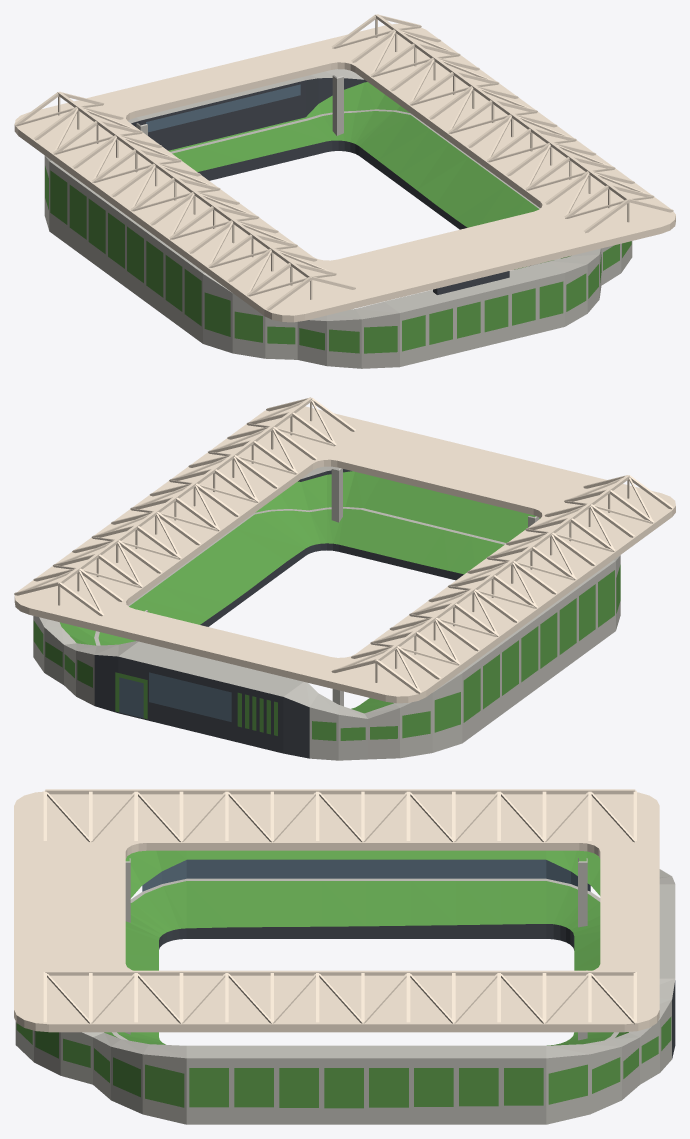
The model's file is atx-q2-stadium.glb.
3 renders of one model, top to bottom at view 1: azimuth 30°, elevation 25°; view 2: azimuth 150°, elevation 25°; view 3: azimuth 270°, elevation 25°, orthographic. The views are drawn at different scales.
Visible parts, largest first — view 1: Q2 Stadium; view 2: Q2 Stadium; view 3: Q2 Stadium.
Boxes of the visible parts, x1,y1,x2,y2 form: Q2 Stadium: [14, 14, 675, 368]; Q2 Stadium: [14, 397, 675, 760]; Q2 Stadium: [14, 789, 675, 1124].
Size of the model in its own units: 166 by 37.05 by 190.
